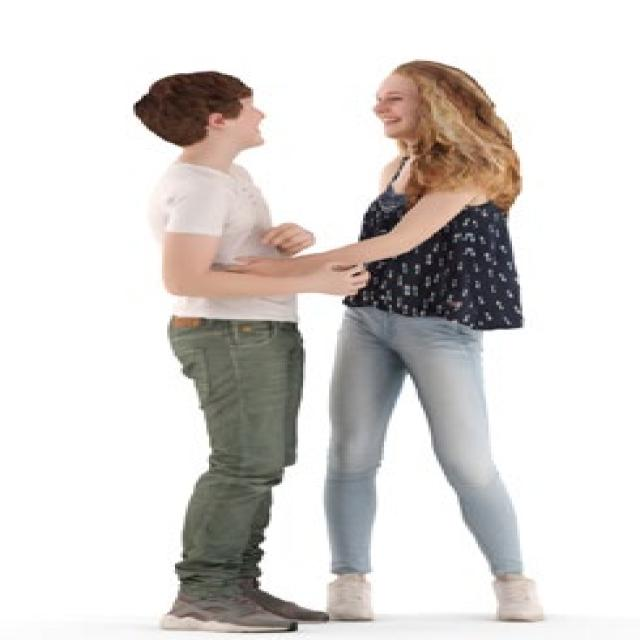standing: (325, 55, 545, 626), (130, 67, 327, 634)
